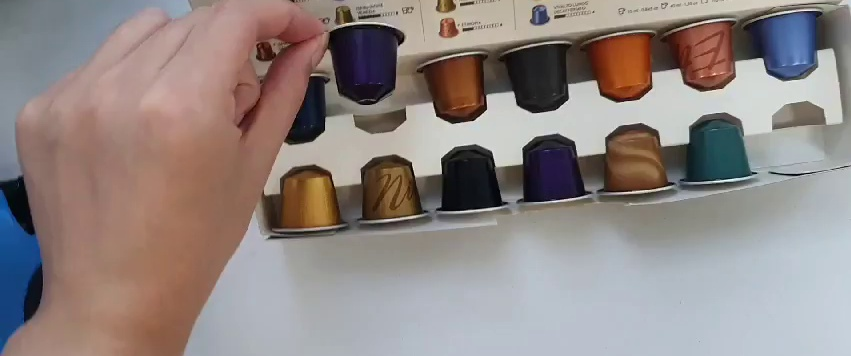capsule_2: (324, 21, 410, 108)
